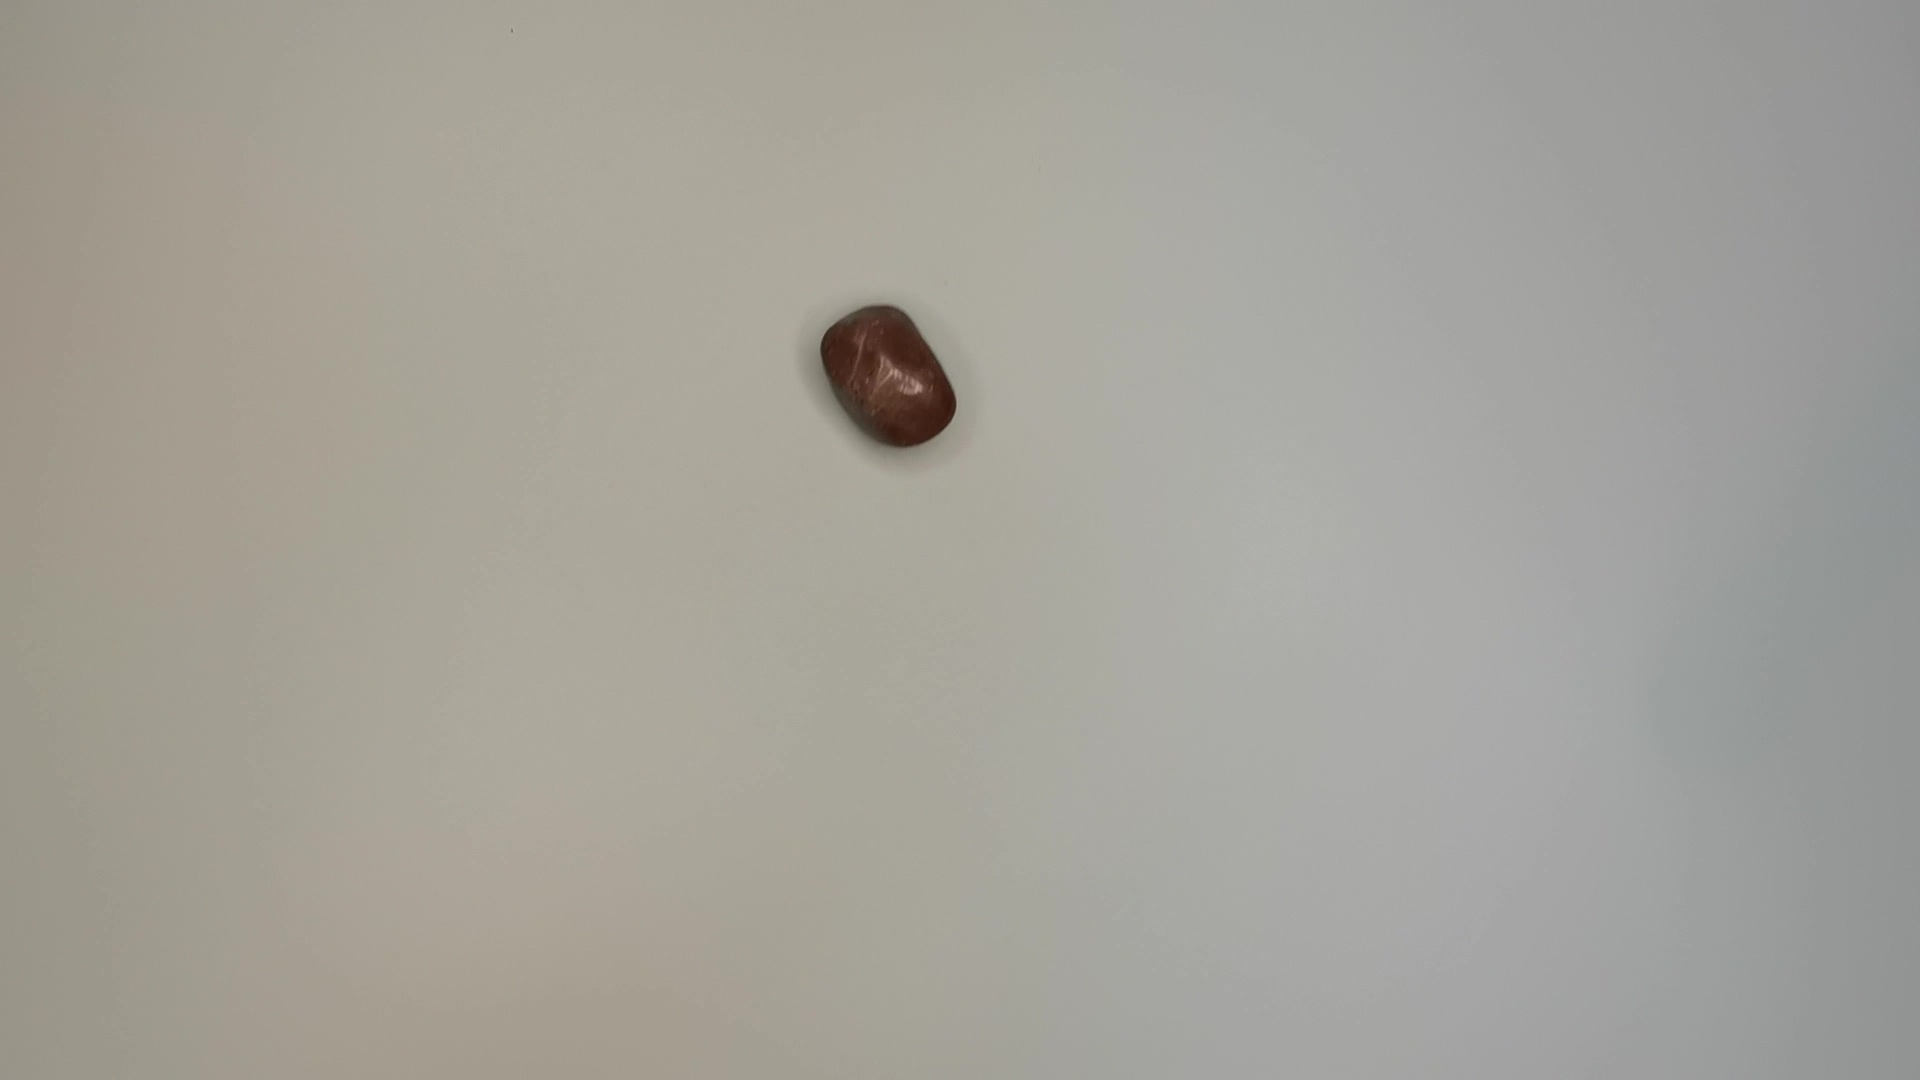ceramic: (815, 298, 963, 454)
